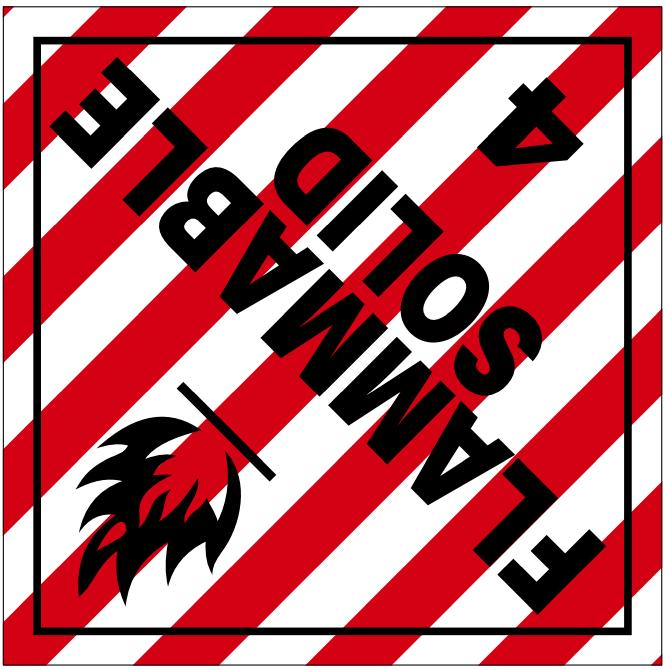flammable-solid: (1, 1, 665, 670)
